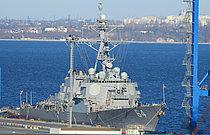MIL_Ship: (18, 4, 172, 130)
